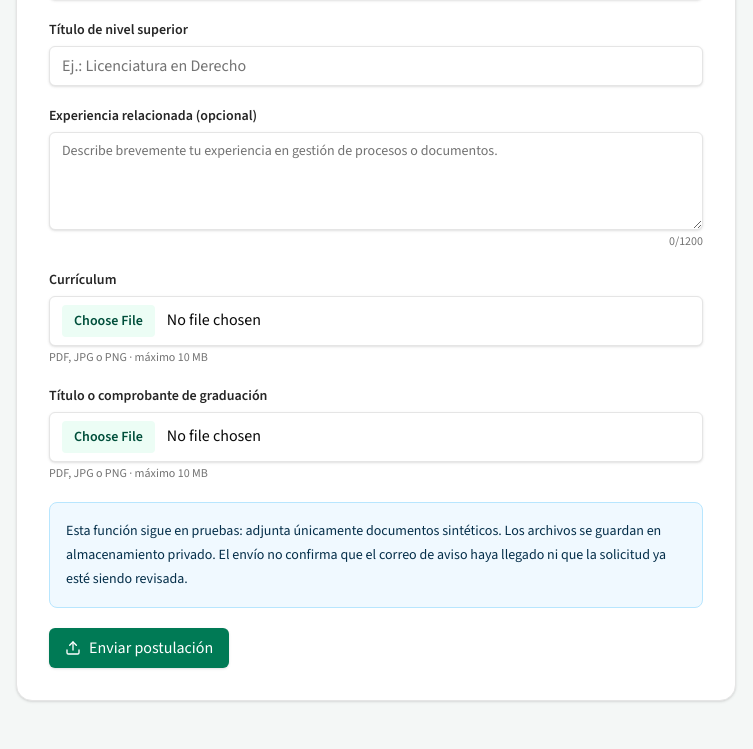
AgentApplicationPage › requires province, degree and both documents before sending
(page scrolled)
Click the button "Enviar postulación" at (139, 648), box [49,628,229,668]
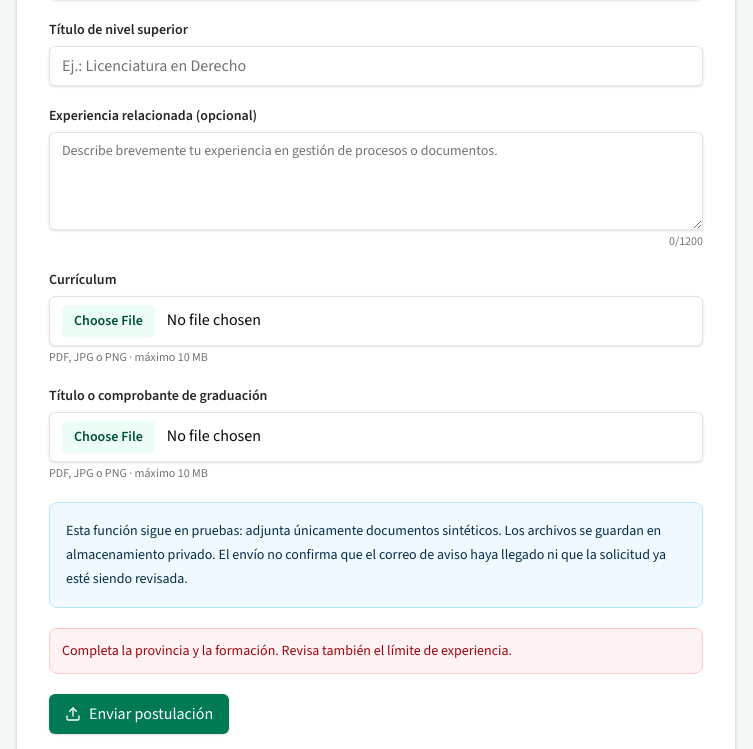
Check: the message shows "Completa la provincia y la formación", box [62,641,512,661]
